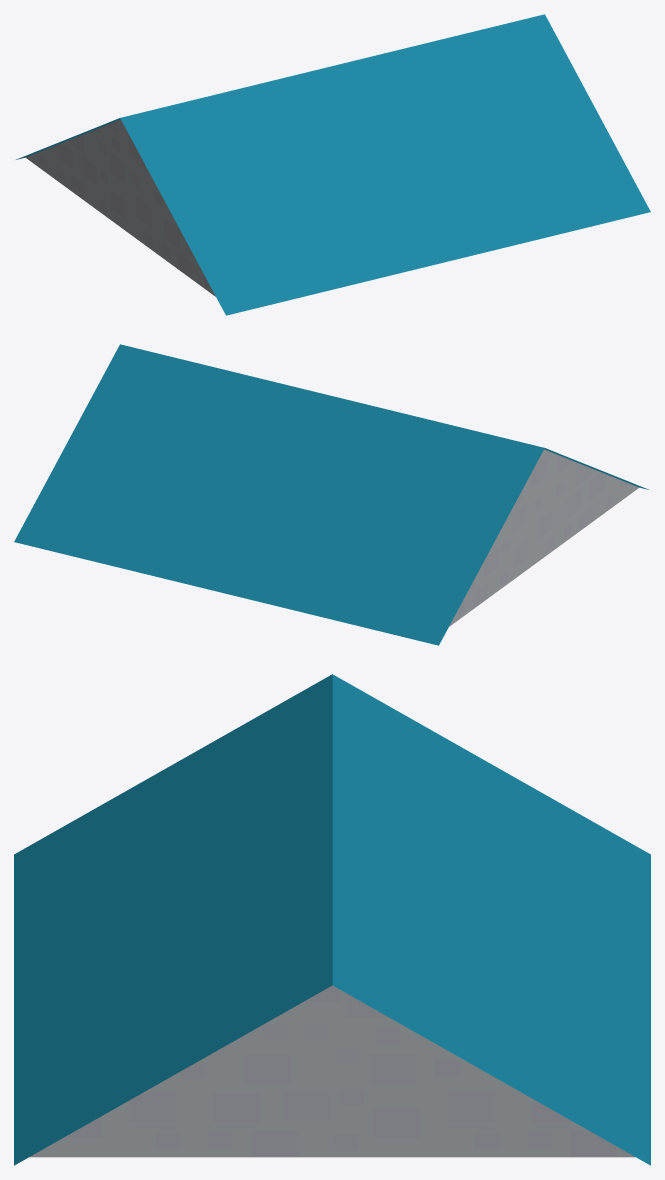
The model's file is bank_s486-511_floor1.glb.
3 renders of one model, top to bottom at view 1: azimuth 30°, elevation 25°; view 2: azimuth 150°, elevation 25°; view 3: azimuth 270°, elevation 25°, orthographic. The views are drawn at different scales.
Parts seen in each view (by area): view 1: bank_s486-511_floor1; view 2: bank_s486-511_floor1; view 3: bank_s486-511_floor1.
Boxes of the visible parts, bbox=[...] form: bank_s486-511_floor1: bbox=[16, 14, 650, 315]; bank_s486-511_floor1: bbox=[14, 344, 648, 645]; bank_s486-511_floor1: bbox=[14, 674, 650, 1165].
Size of the model in its own units: 7.4 by 2 by 6.4.
Materials: 2 (1 with a texture image).
